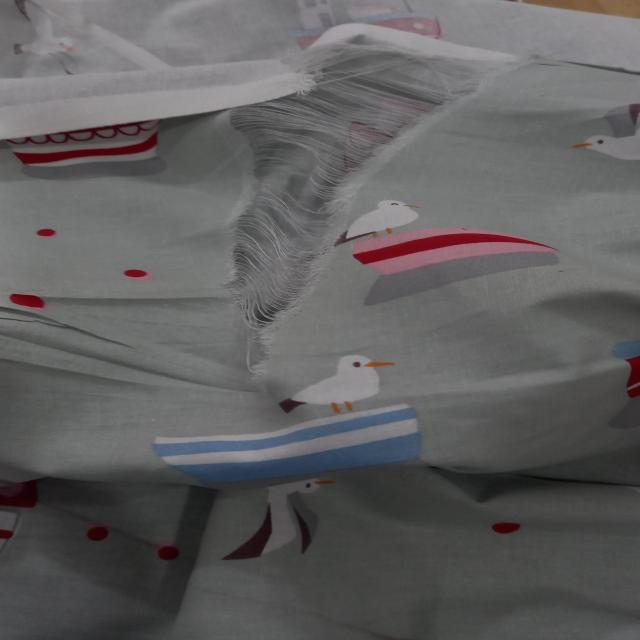cut: (203, 22, 535, 372)
